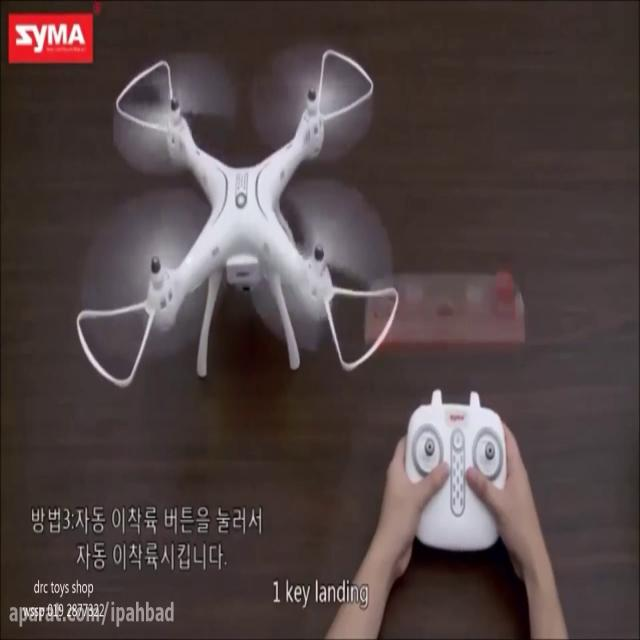drone: (74, 36, 398, 393)
